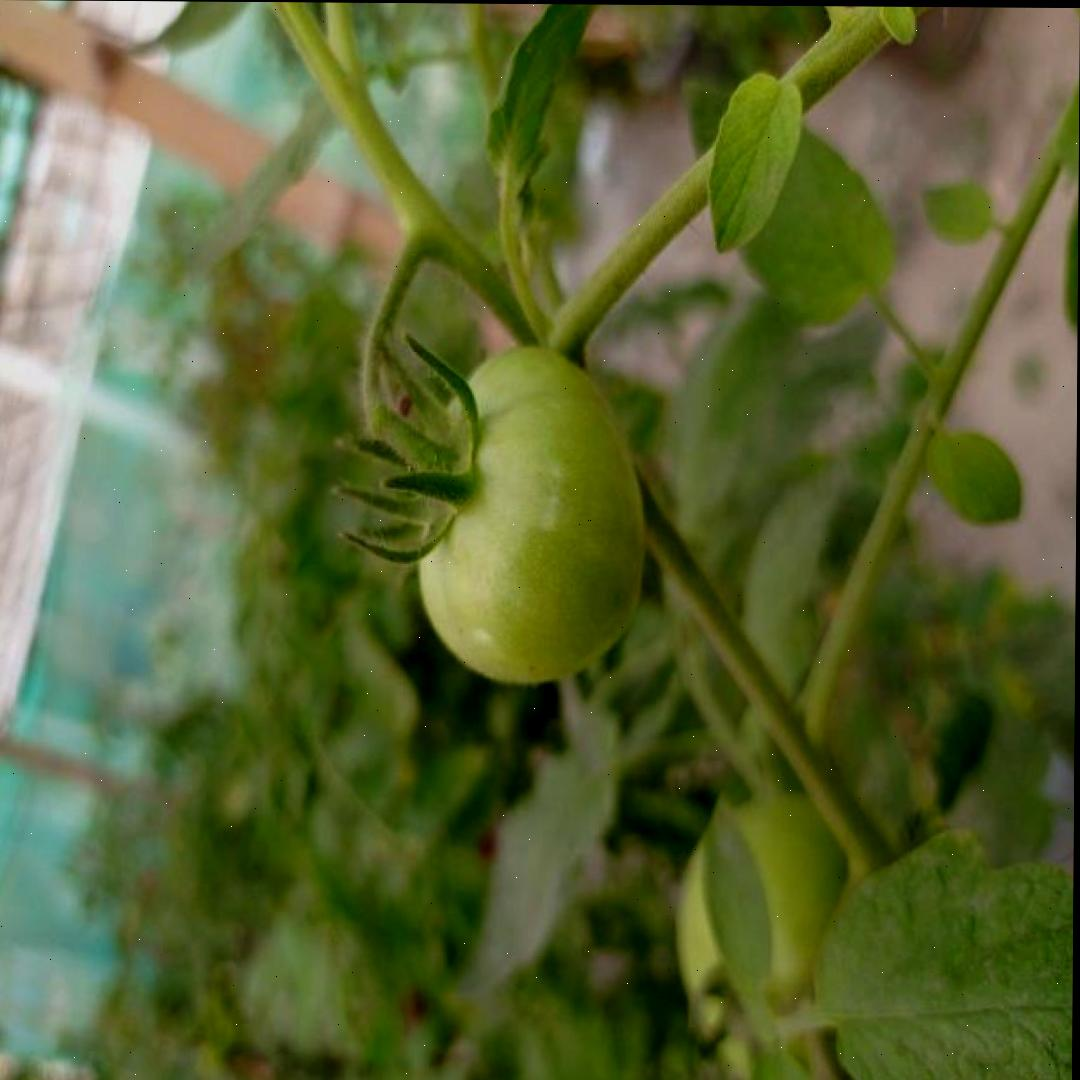mentah: (412, 349, 646, 686)
